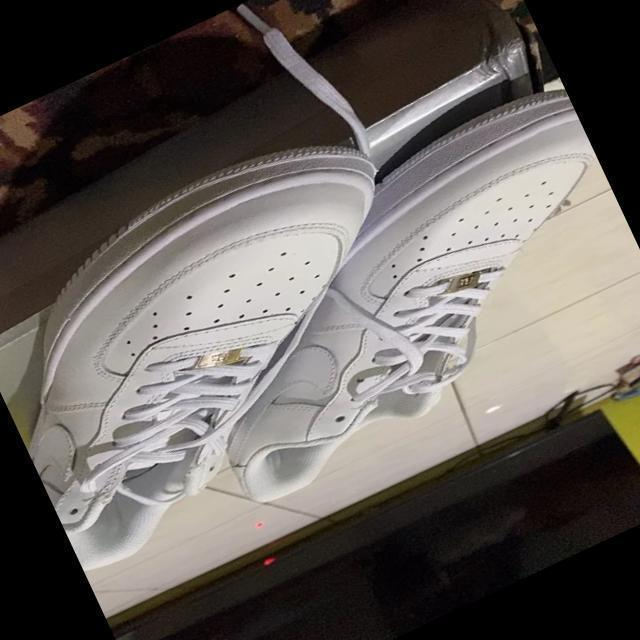nike fake air force: (0, 109, 486, 575), (140, 79, 640, 517)
